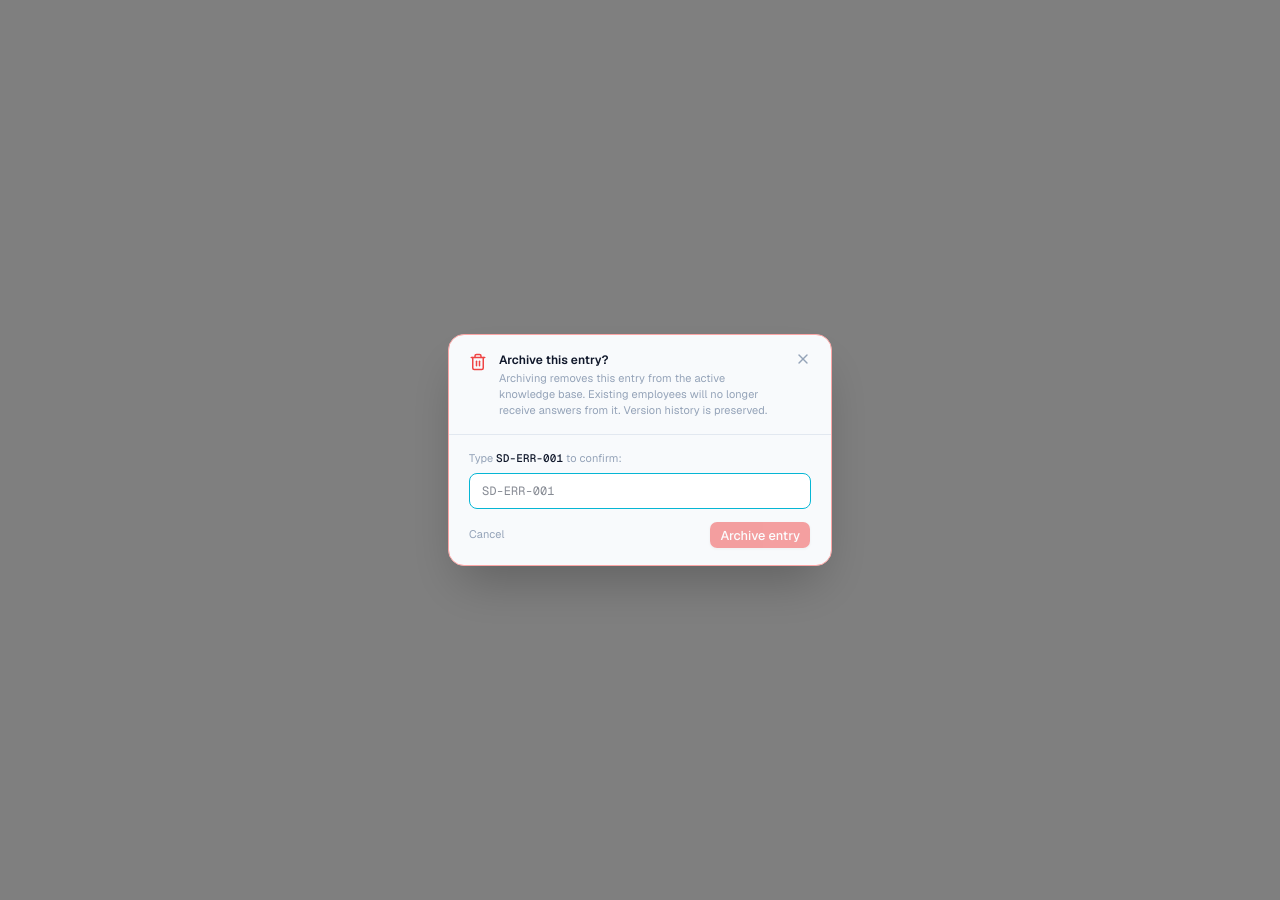
Test case: ArchiveConfirmModal › keeps the archive button disabled until the typed ID matches exactly
Check: the button "Archive entry" is disabled, box [710, 521, 811, 549]
Type "SD-ERR-00" into the field labelled "Type SD-ERR-001 to confirm:" at [640, 491], box [469, 473, 811, 509]
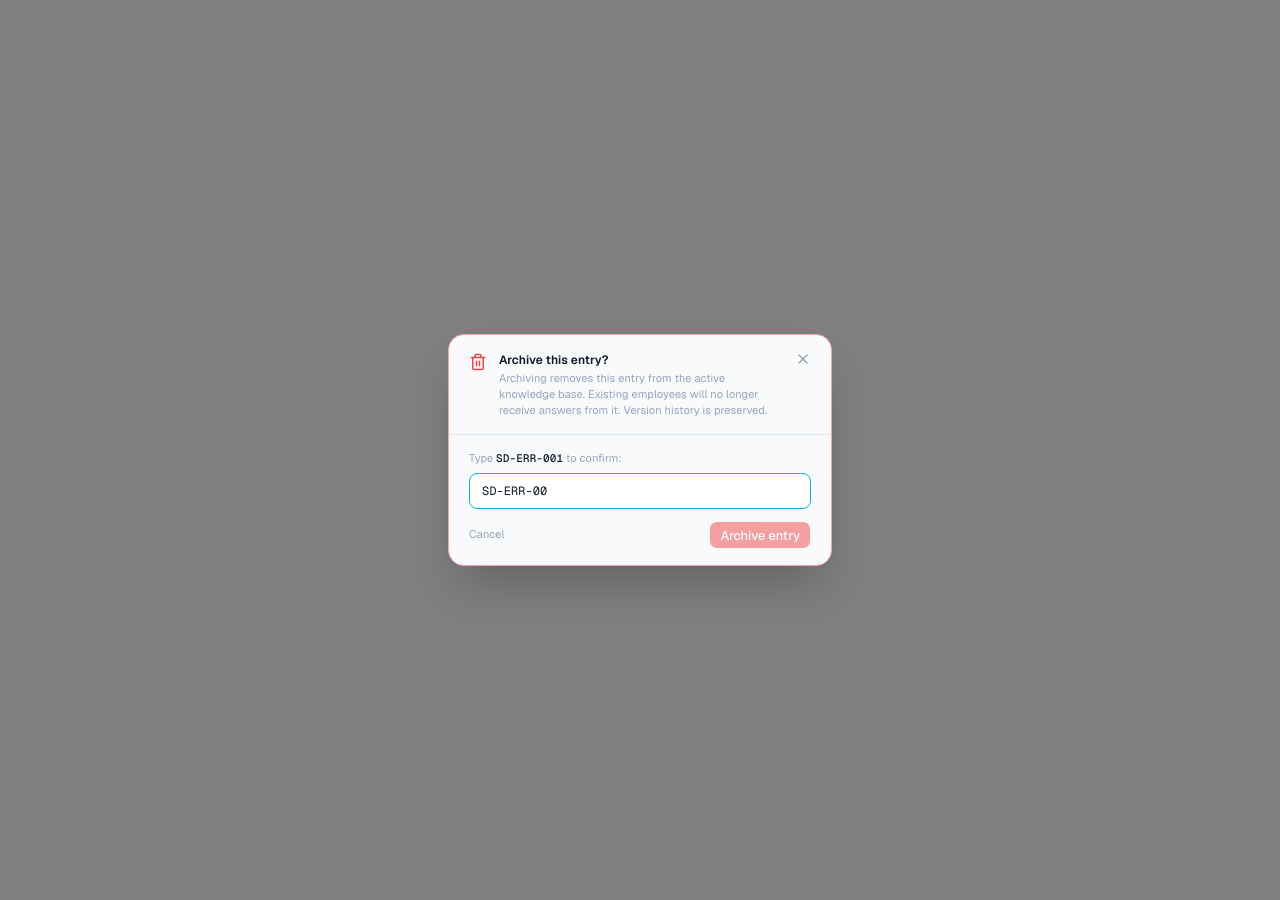
Check: the button "Archive entry" is disabled, box [710, 521, 811, 549]
Type "1" into the field labelled "Type SD-ERR-001 to confirm:" at [640, 491], box [469, 473, 811, 509]
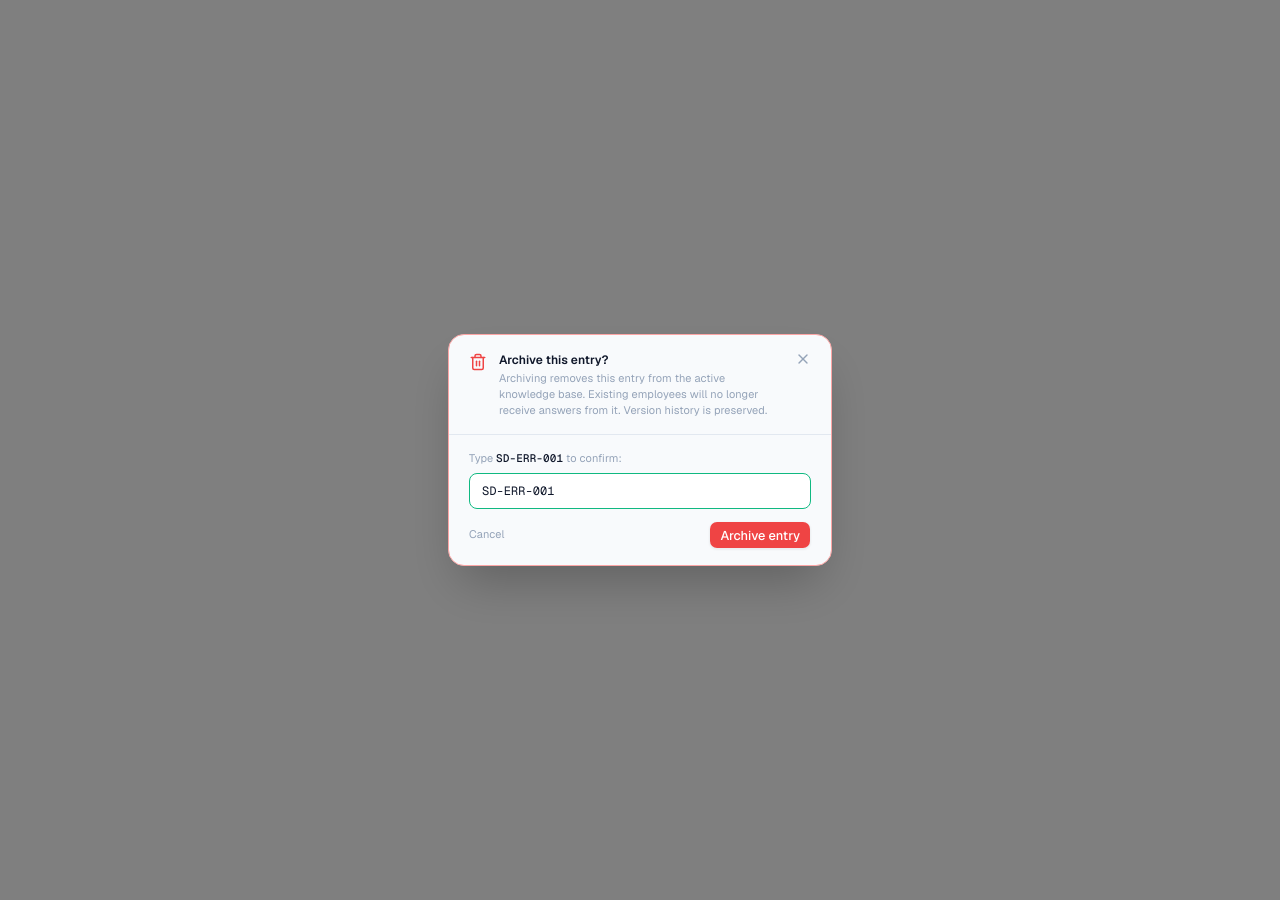
Check: the button "Archive entry" is enabled, box [710, 521, 811, 549]
